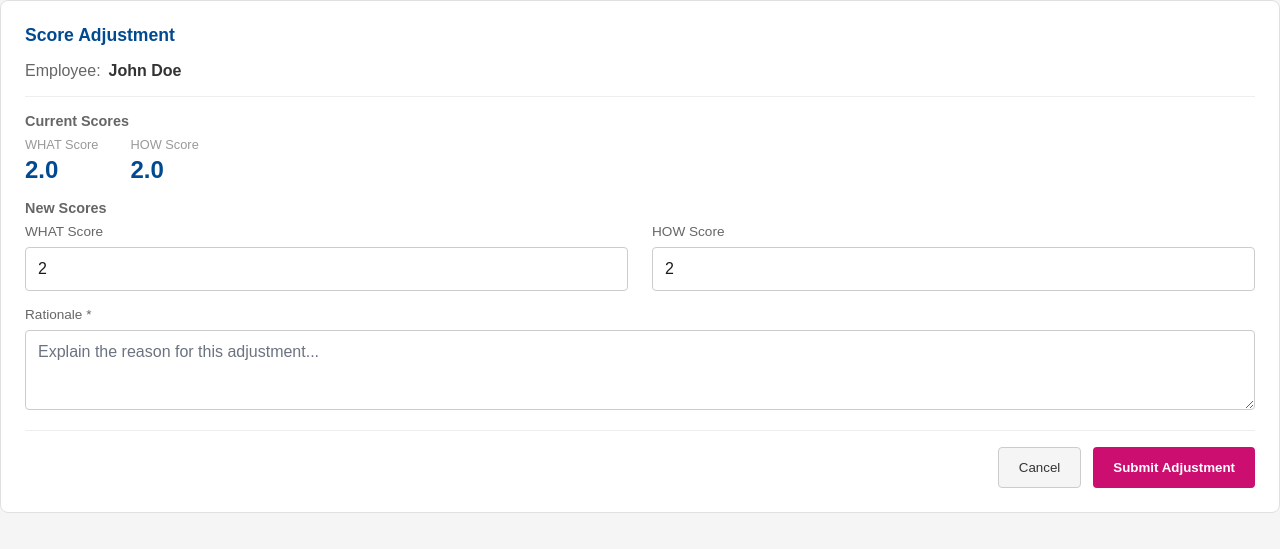
Scenario: ScoreAdjustmentPanel › rationale validation › should show error when rationale is empty on submit
The image size is (1280, 549).
Replace the text in the number field named "whatScore" with "2.5" at (326, 269), box left=25, top=247, right=628, bottom=291
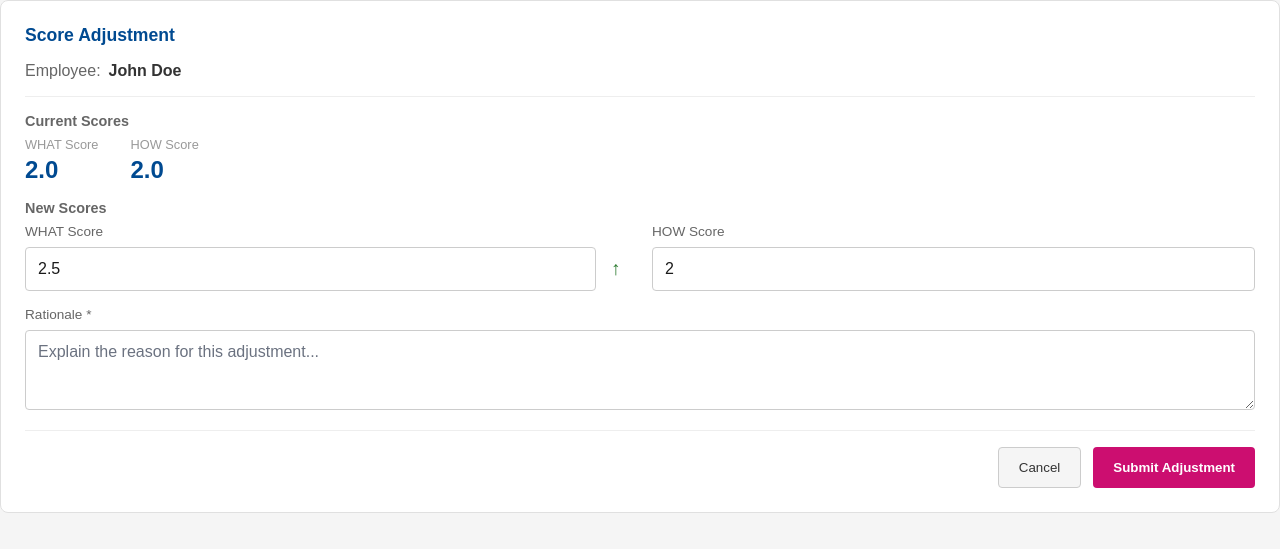
Submit the form, box left=25, top=200, right=1255, bottom=488
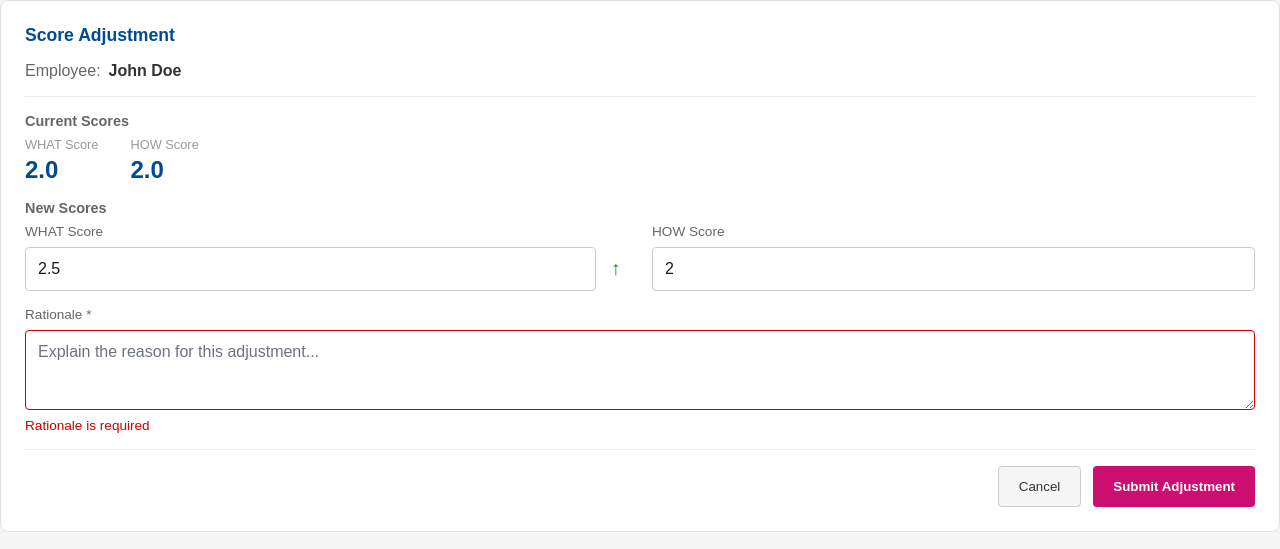
Expected: the text "Rationale is required" is shown, left=25, top=418, right=150, bottom=433
